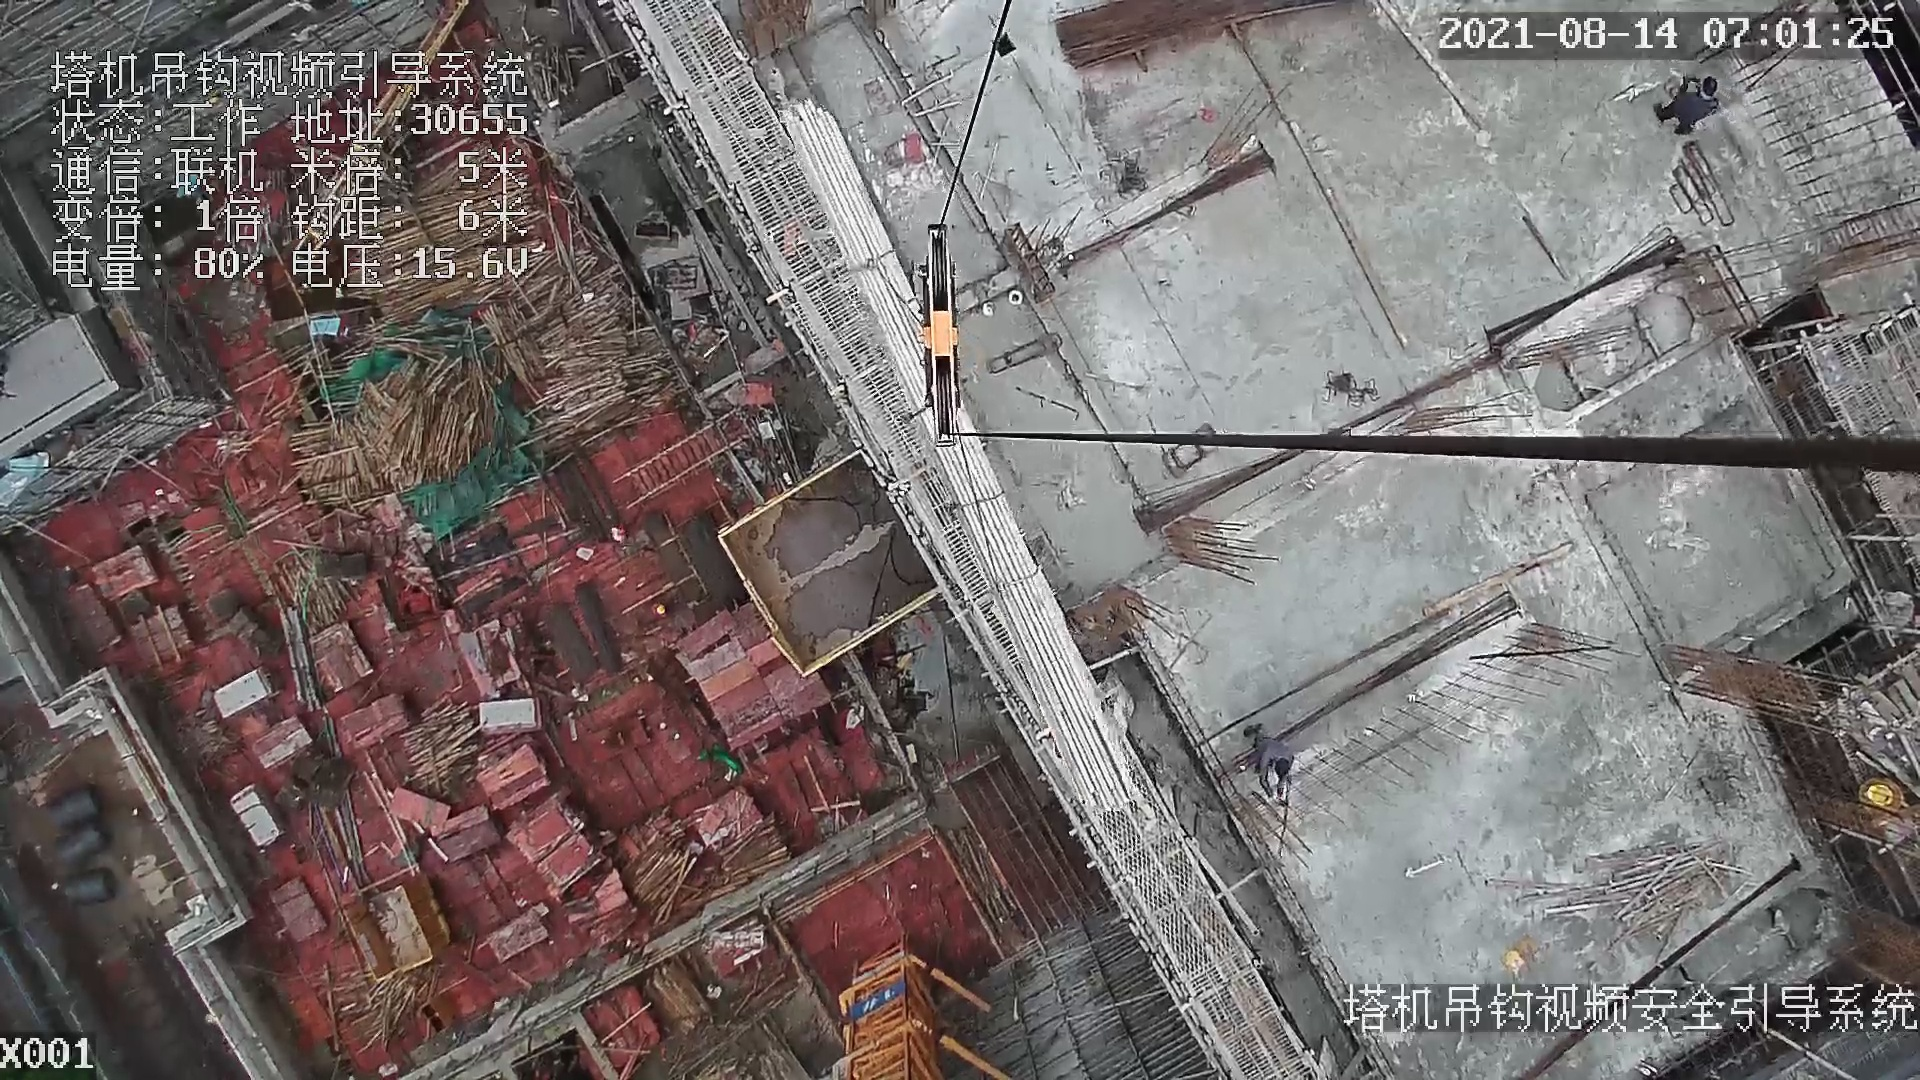hook: (909, 222, 967, 454)
person: (1650, 72, 1737, 140), (1240, 721, 1299, 809)
